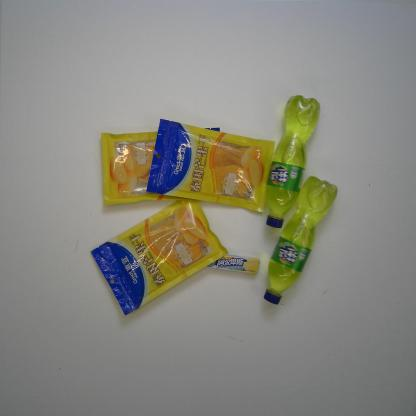Candy: (207, 254, 261, 275)
Dried Fruit: (90, 198, 230, 318), (144, 118, 276, 214), (100, 127, 222, 206)
Drink: (262, 175, 338, 306), (264, 94, 322, 228)
